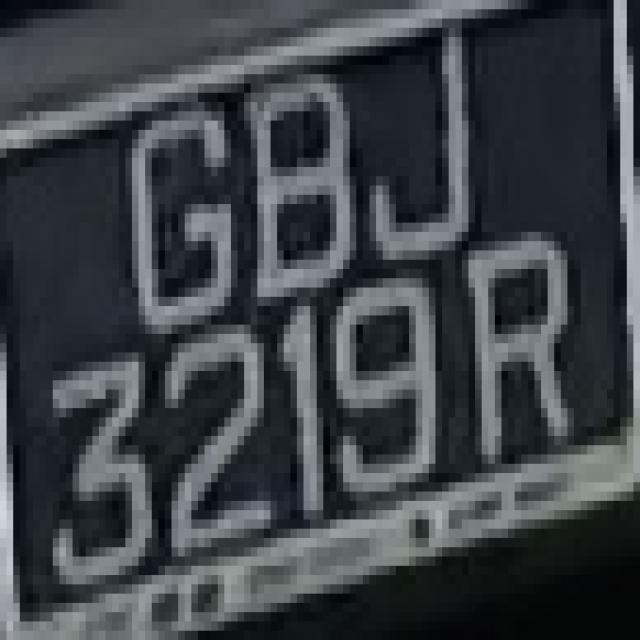1: (251, 278, 330, 538)
2: (145, 306, 271, 566)
3: (20, 343, 152, 603)
9: (310, 260, 436, 510)
B: (231, 65, 369, 334)
G: (99, 102, 244, 352)
J: (343, 46, 482, 278)
R: (455, 232, 594, 473)
